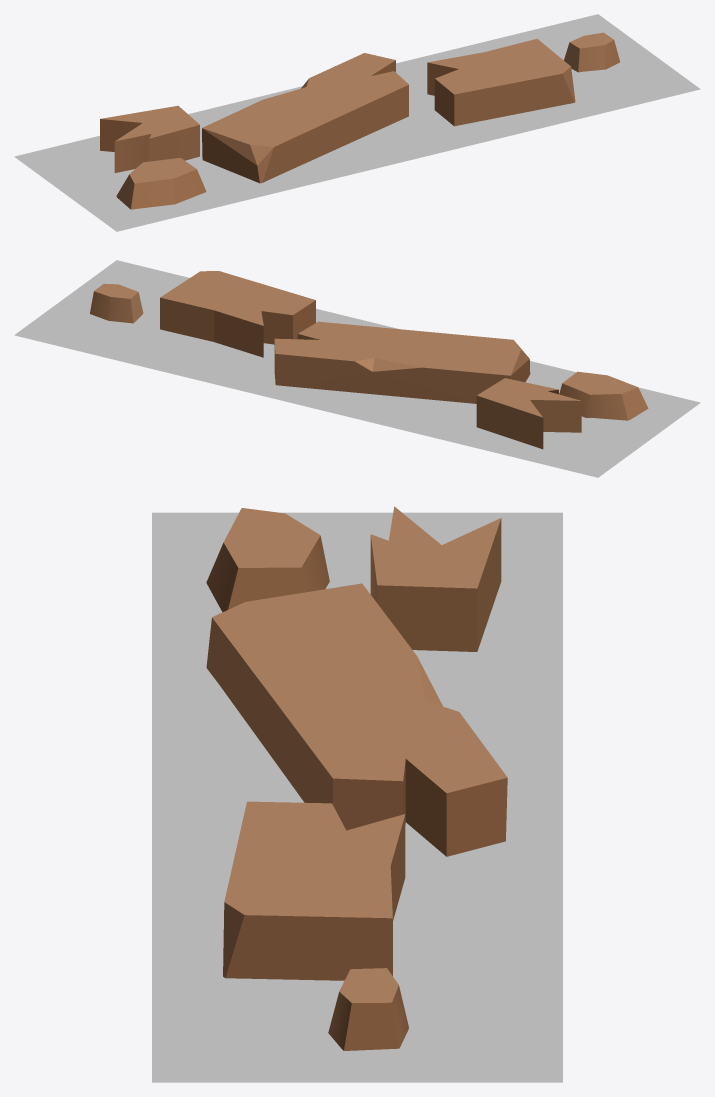
File: Wall_Break2.fbx
The picture shows the model from 3 angles, top to bottom: view 1: azimuth 30°, elevation 25°; view 2: azimuth 150°, elevation 25°; view 3: azimuth 270°, elevation 25°; orthographic projection. The views are drawn at different scales.
Visible parts, largest first — view 1: Wall_Break2, Wall_Break_Shadow; view 2: Wall_Break2, Wall_Break_Shadow; view 3: Wall_Break_Shadow, Wall_Break2.
Boxes of the visible parts, bbox=[...] form: Wall_Break2: bbox=[100, 32, 619, 209]; Wall_Break_Shadow: bbox=[14, 14, 700, 231]; Wall_Break2: bbox=[90, 271, 648, 449]; Wall_Break_Shadow: bbox=[14, 260, 700, 477]; Wall_Break_Shadow: bbox=[152, 512, 562, 1082]; Wall_Break2: bbox=[206, 506, 507, 1050].
Size of the model in its own units: 1.49 by 0.0881 by 0.4532.
